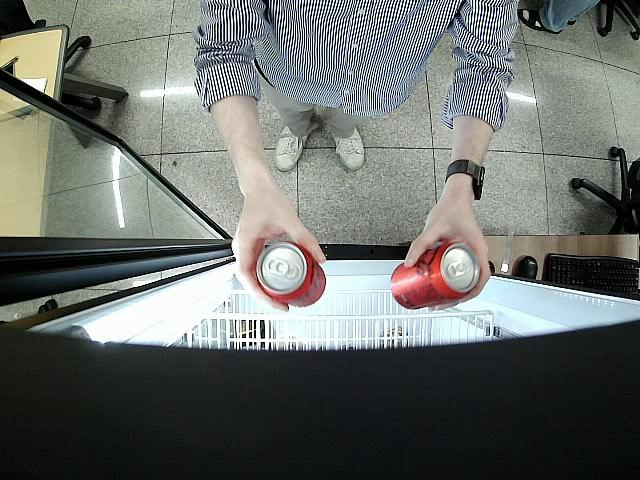00_hand: (230, 202, 329, 314), (405, 211, 490, 310)
11_cocaColaZero: (389, 243, 479, 306), (252, 238, 325, 308)
